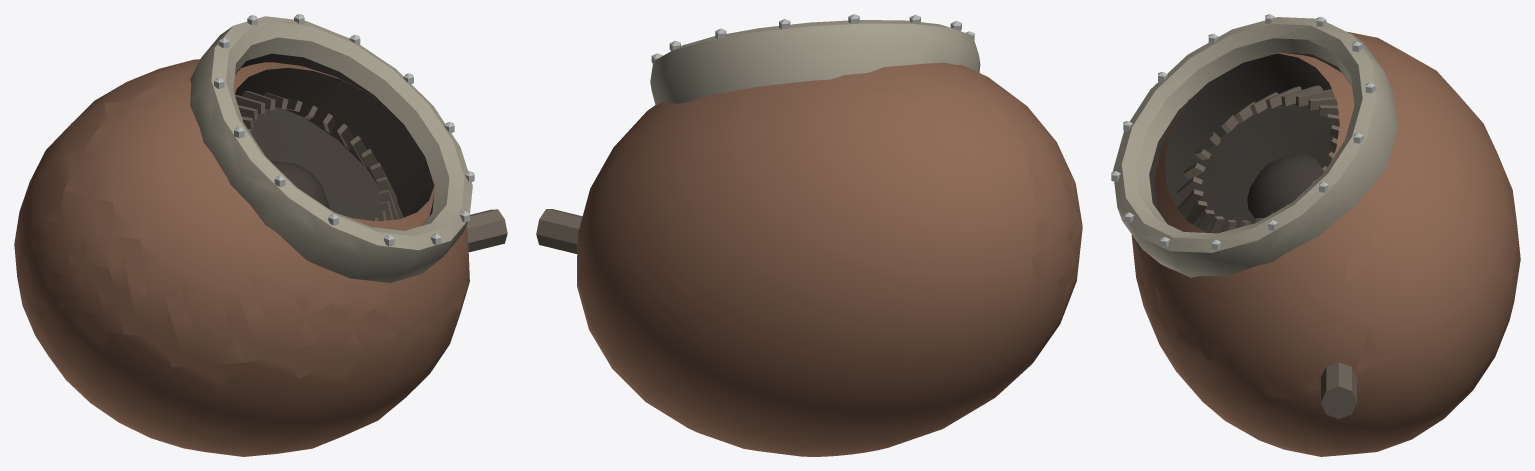
The model's file is crash-site-spaceship-wreck-medium-2.glb.
3 views of the same model, side by side, from view 1: azimuth 30°, elevation 25°; view 2: azimuth 150°, elevation 25°; view 3: azimuth 270°, elevation 25° (orthographic). The views are drawn at different scales.
Parts seen in each view (by area): view 1: body; view 2: body; view 3: body.
Part boxes in pixels (x1=…): body: x1=14, y1=14, x2=507, y2=456; body: x1=536, y1=14, x2=1082, y2=456; body: x1=1111, y1=14, x2=1520, y2=456.
Bounding box in the file's own units: 2.03 × 1.67 × 1.58.
